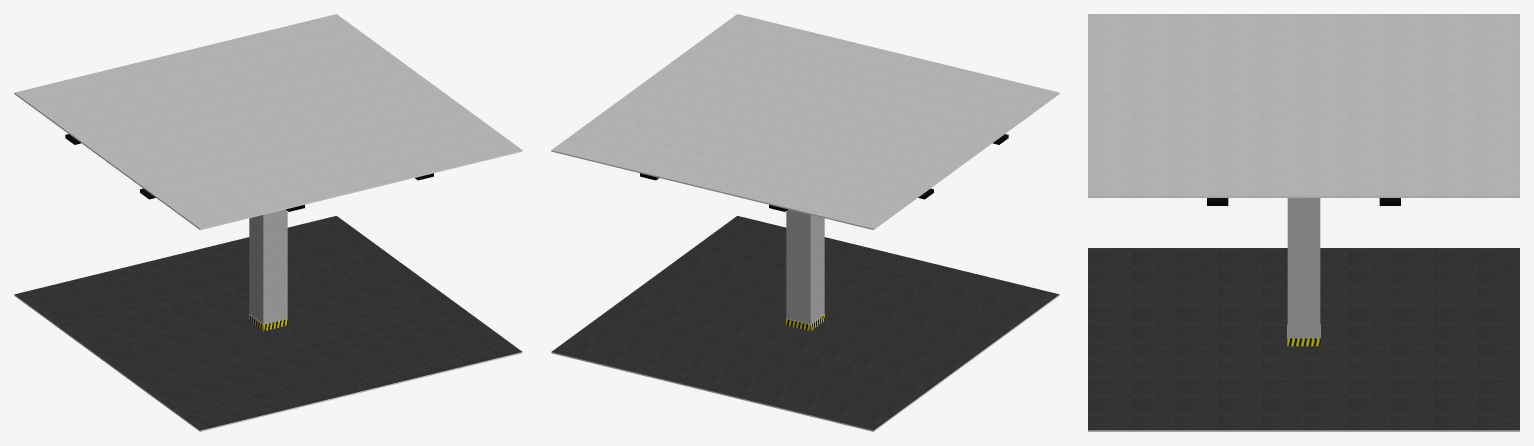
File: ParkingBay.fbx
3 views of the same model, side by side, from view 1: azimuth 30°, elevation 25°; view 2: azimuth 150°, elevation 25°; view 3: azimuth 270°, elevation 25° (orthographic). The views are drawn at different scales.
Visible parts, largest first — view 1: node_id28 (×2), node_id25 (×2), node_id34; view 2: node_id28 (×2), node_id25 (×2), node_id34; view 3: node_id28 (×2), node_id25 (×2), node_id34.
Part boxes in pixels (x1,y1,x2,y2): node_id28 (×2): [14, 14, 522, 229]; node_id25 (×2): [14, 216, 522, 431]; node_id34: [249, 209, 287, 324]; node_id28 (×2): [551, 14, 1059, 229]; node_id25 (×2): [551, 216, 1059, 431]; node_id34: [786, 209, 824, 324]; node_id28 (×2): [1088, 14, 1519, 197]; node_id25 (×2): [1088, 248, 1519, 431]; node_id34: [1287, 198, 1320, 338].
Bounding box in the file's own units: 0.512 × 0.3082 × 0.512.
Materials: 27 (4 with a texture image).
